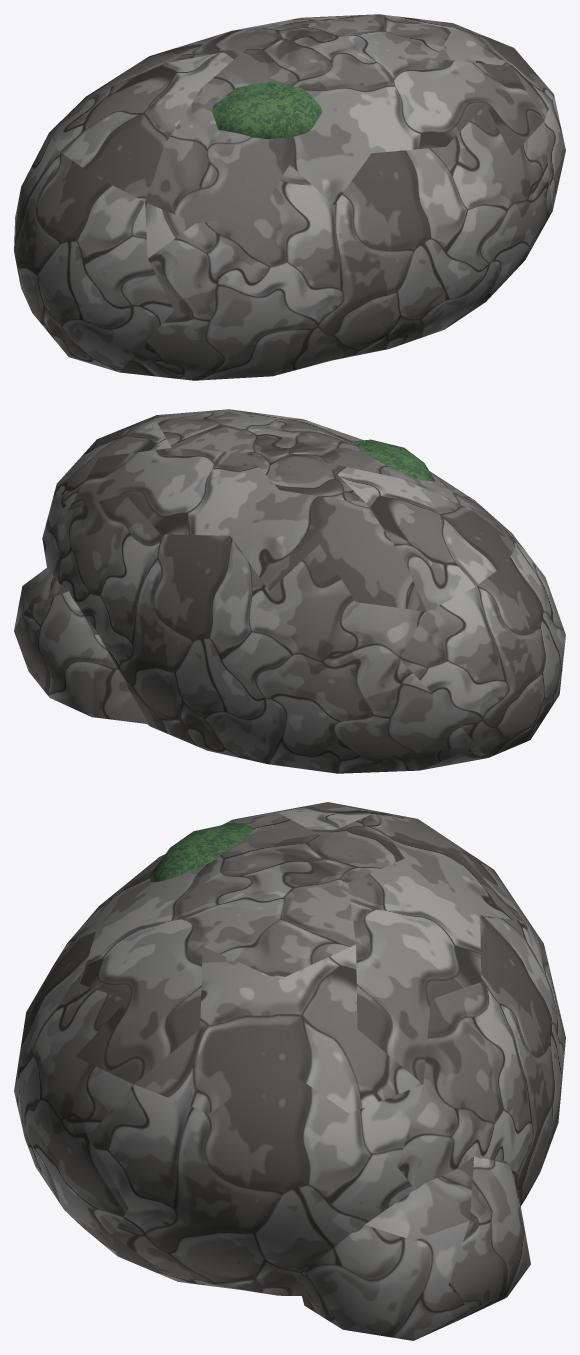
The model's file is rock_large.glb.
3 renders of one model, top to bottom at view 1: azimuth 30°, elevation 25°; view 2: azimuth 150°, elevation 25°; view 3: azimuth 270°, elevation 25°, orthographic. The views are drawn at different scales.
Parts seen in each view (by area): view 1: Rock; view 2: Rock; view 3: Rock.
Boxes of the visible parts, x1,y1,x2,y2 form: Rock: [14, 14, 565, 380]; Rock: [14, 409, 565, 773]; Rock: [14, 802, 565, 1340].
Bounding box in the file's own units: 3.45 × 1.65 × 2.46.
Materials: 2 (2 with a texture image).
